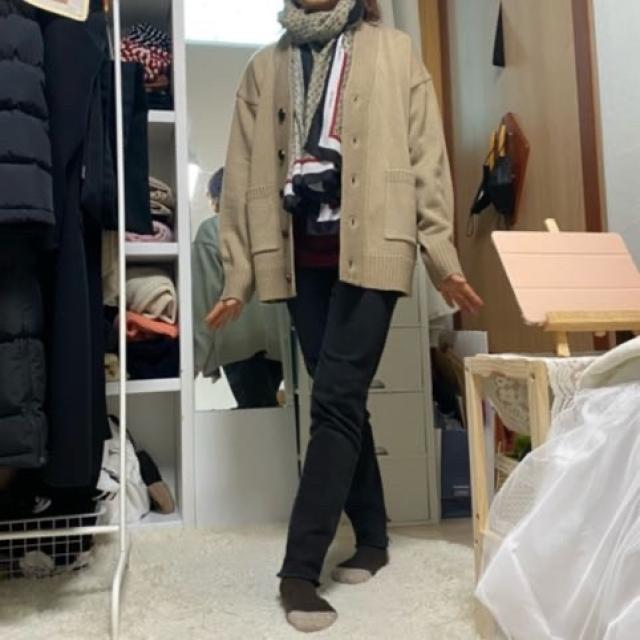cardigan: (218, 16, 468, 300)
denimpants: (265, 232, 401, 578)
